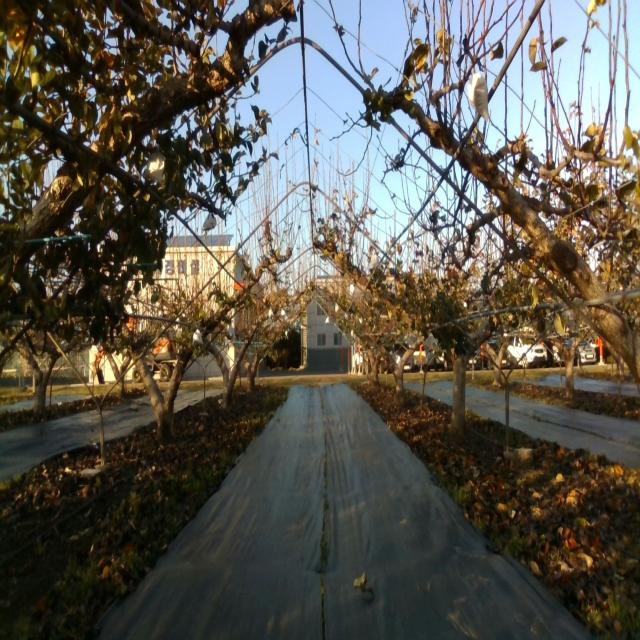pearbags: (467, 72, 489, 121), (145, 144, 166, 186), (201, 213, 217, 230)
